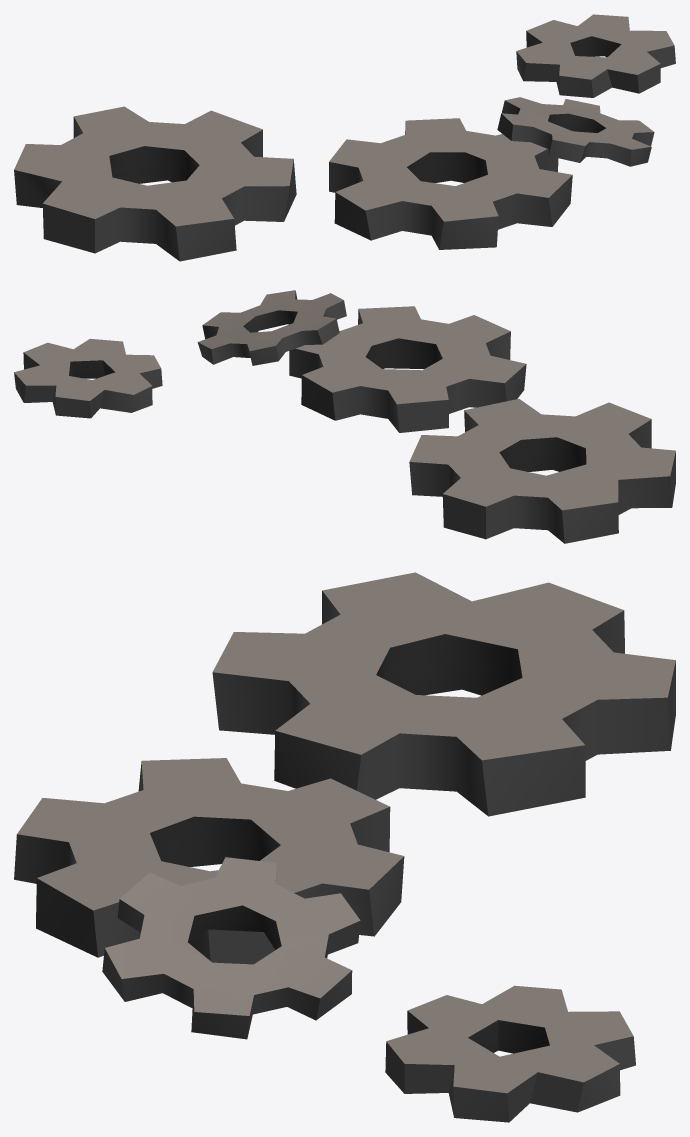
The model's file is factory-scrap-b.obj.
The picture shows the model from 3 angles, top to bottom: view 1: azimuth 30°, elevation 25°; view 2: azimuth 150°, elevation 25°; view 3: azimuth 270°, elevation 25°; orthographic projection. The views are drawn at different scales.
Parts seen in each view (by area): view 1: factory-scrap-b; view 2: factory-scrap-b; view 3: factory-scrap-b.
Boxes of the visible parts, box(x1,y1,x2,y2) form: factory-scrap-b: box(14, 14, 675, 261); factory-scrap-b: box(14, 290, 675, 543); factory-scrap-b: box(14, 572, 675, 1122).
Bounding box in the file's own units: 5.94 × 0.4923 × 3.27.
Materials: 1 (1 with a texture image).
